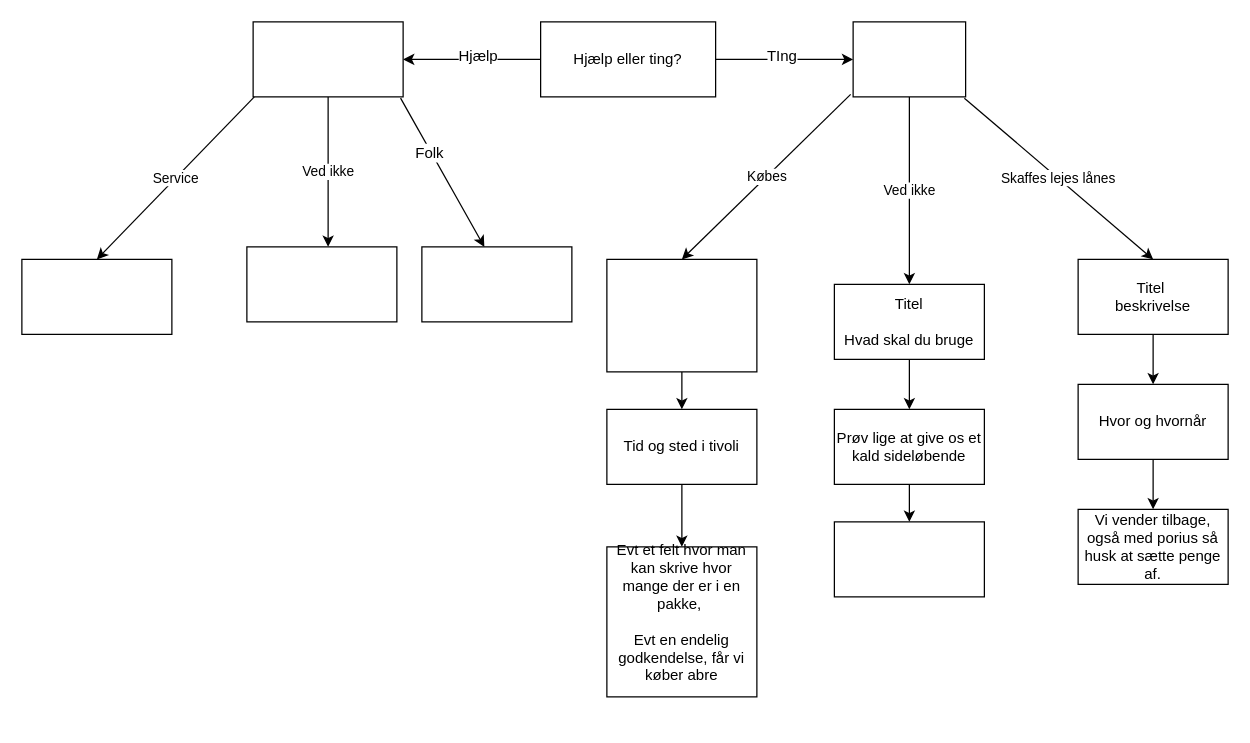
Some shapes in this 1250 by 743 pixel diagram are drawn without their labels. The box of each missing label's shape, as (x1, y1, x2, y2) in pixels:
Indkøbes eller skaffes?: (852, 21, 966, 97)
Købsflow startes, indeholder guide med websider Kræver antal, weblink og titel: (606, 258, 757, 372)
Service eller folk?: (252, 21, 403, 97)
Vi har registreret din forespørgsel og vender tilbage: (833, 521, 984, 597)
